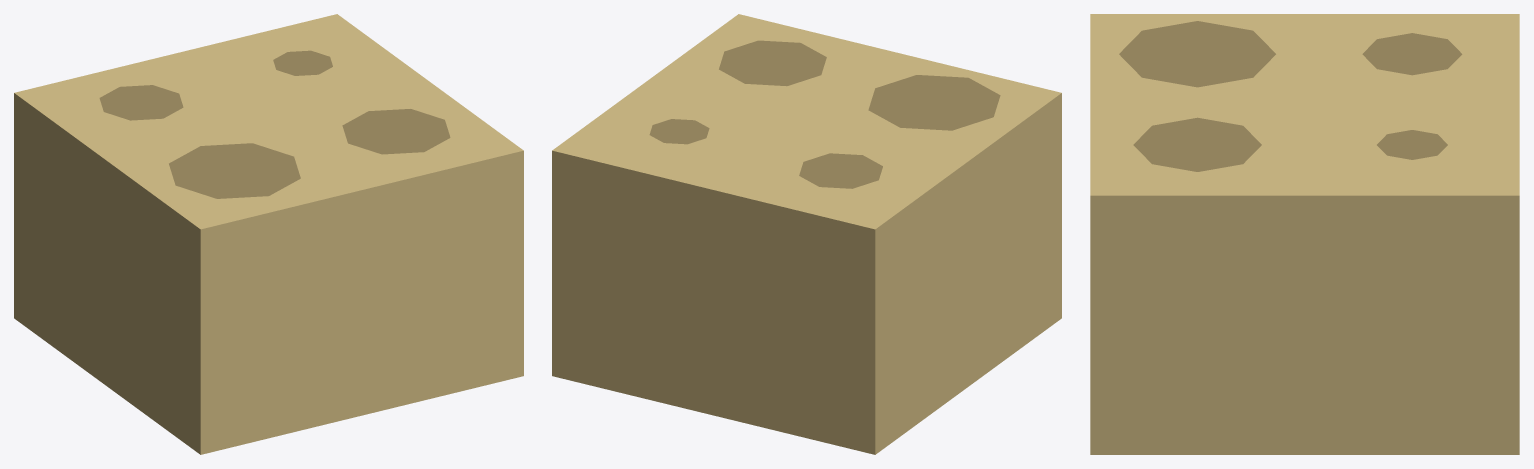
The model's file is prop-dapping-block.fbx.
The picture shows the model from 3 angles, left to right: view 1: azimuth 30°, elevation 25°; view 2: azimuth 150°, elevation 25°; view 3: azimuth 270°, elevation 25°; orthographic projection. The views are drawn at different scales.
Parts seen in each view (by area): view 1: prop-dapping-block; view 2: prop-dapping-block; view 3: prop-dapping-block.
Boxes of the visible parts, x1,y1,x2,y2 form: prop-dapping-block: [14, 14, 523, 454]; prop-dapping-block: [552, 14, 1061, 454]; prop-dapping-block: [1090, 14, 1519, 454].
Bounding box in the file's own units: 6 × 4.08 × 6.
